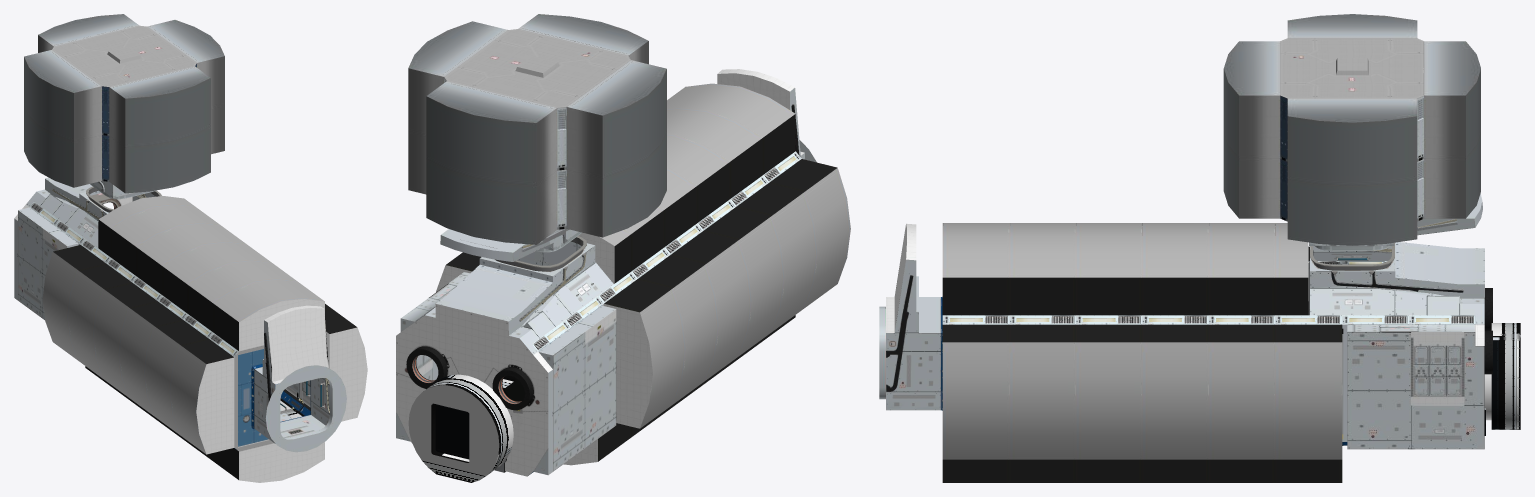
The model's file is iss_kibo_interior.glb.
3 views of the same model, side by side, from view 1: azimuth 30°, elevation 25°; view 2: azimuth 150°, elevation 25°; view 3: azimuth 270°, elevation 25° (orthographic). The views are drawn at different scales.
Visible parts, largest first — view 1: jpm, jlp; view 2: jpm, jlp; view 3: jpm, jlp.
Boxes of the visible parts, x1,y1,x2,y2 form: jpm: (14,177,367,482); jlp: (24,14,224,199); jpm: (396,69,850,482); jlp: (408,14,666,261); jpm: (879,223,1520,482); jlp: (1223,14,1482,250).
Size of the model in its own units: 4.15 by 7.21 by 10.33.
Materials: 13 (13 with a texture image).
